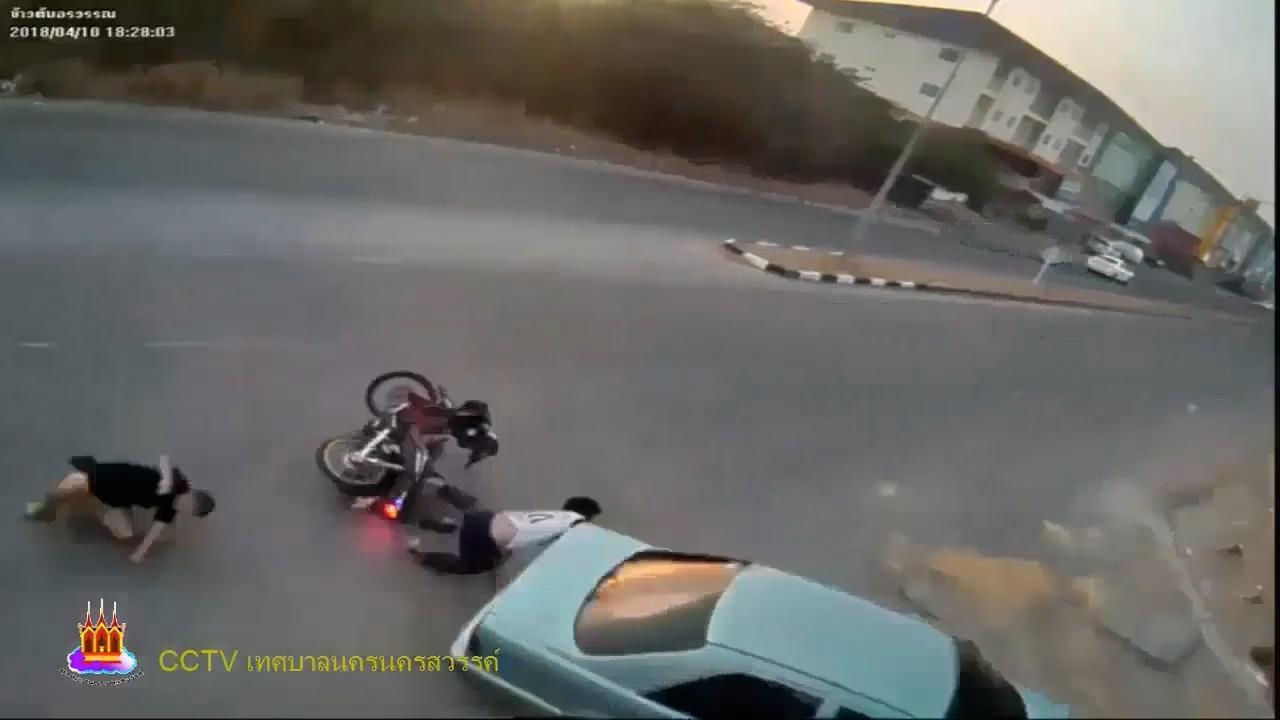accident: (23, 443, 217, 572), (410, 463, 598, 580)
